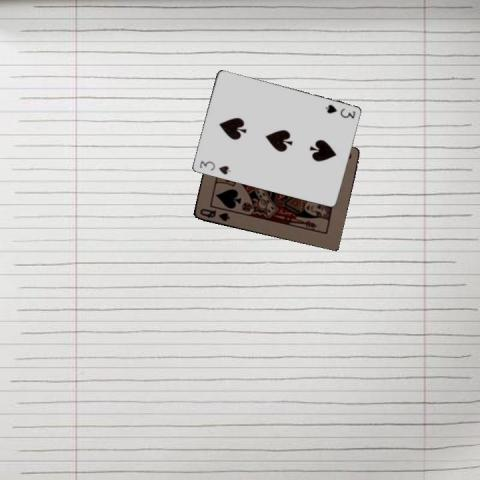3s: (196, 158, 232, 176), (322, 102, 357, 120)
Qs: (196, 205, 230, 223)
